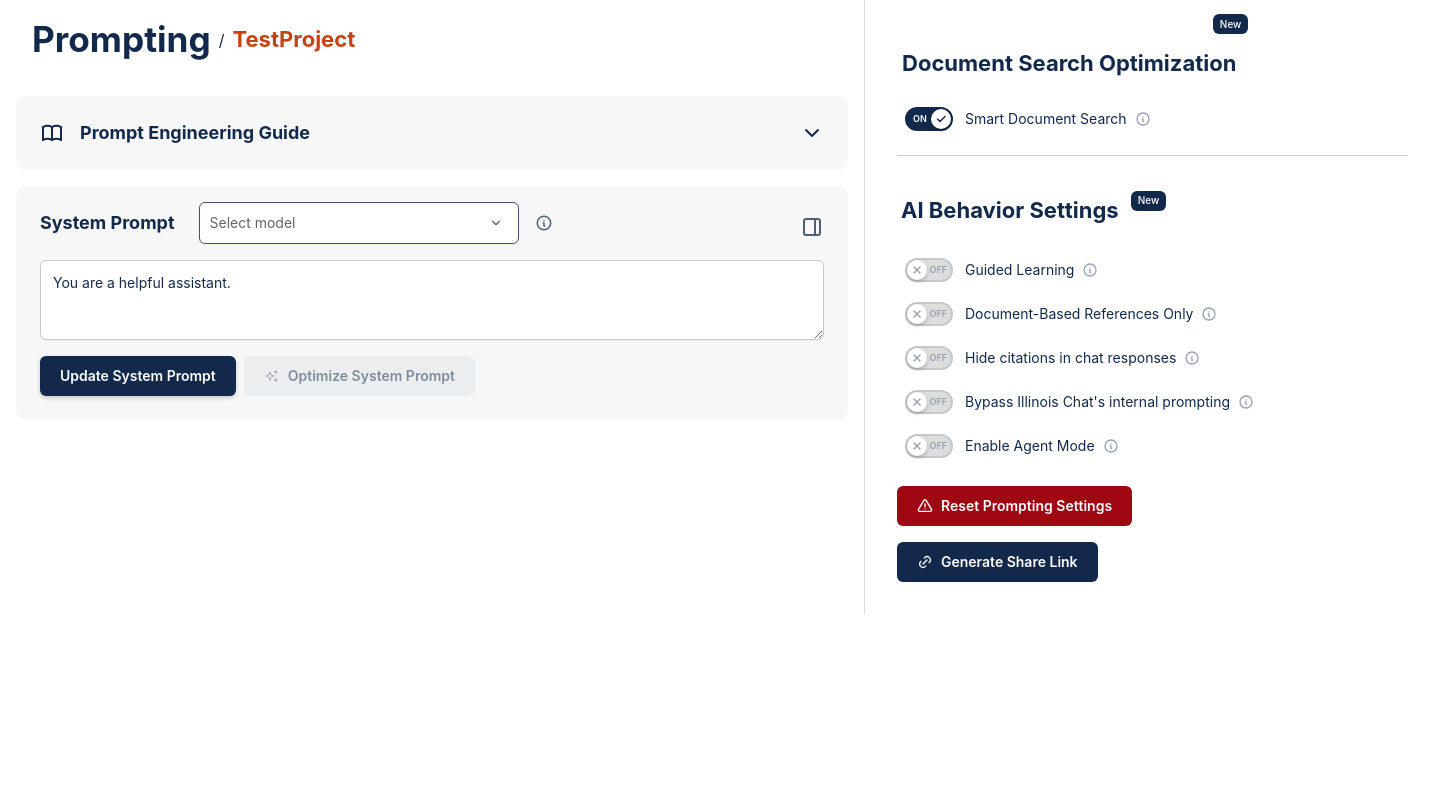
PromptEditor › Sidebar toggle (non-embedded mode) › re-opens sidebar when Open Prompt Builder is clicked
Click the button named "Close Prompt Builder".
click(808, 227)  # box [792,215,824,239]
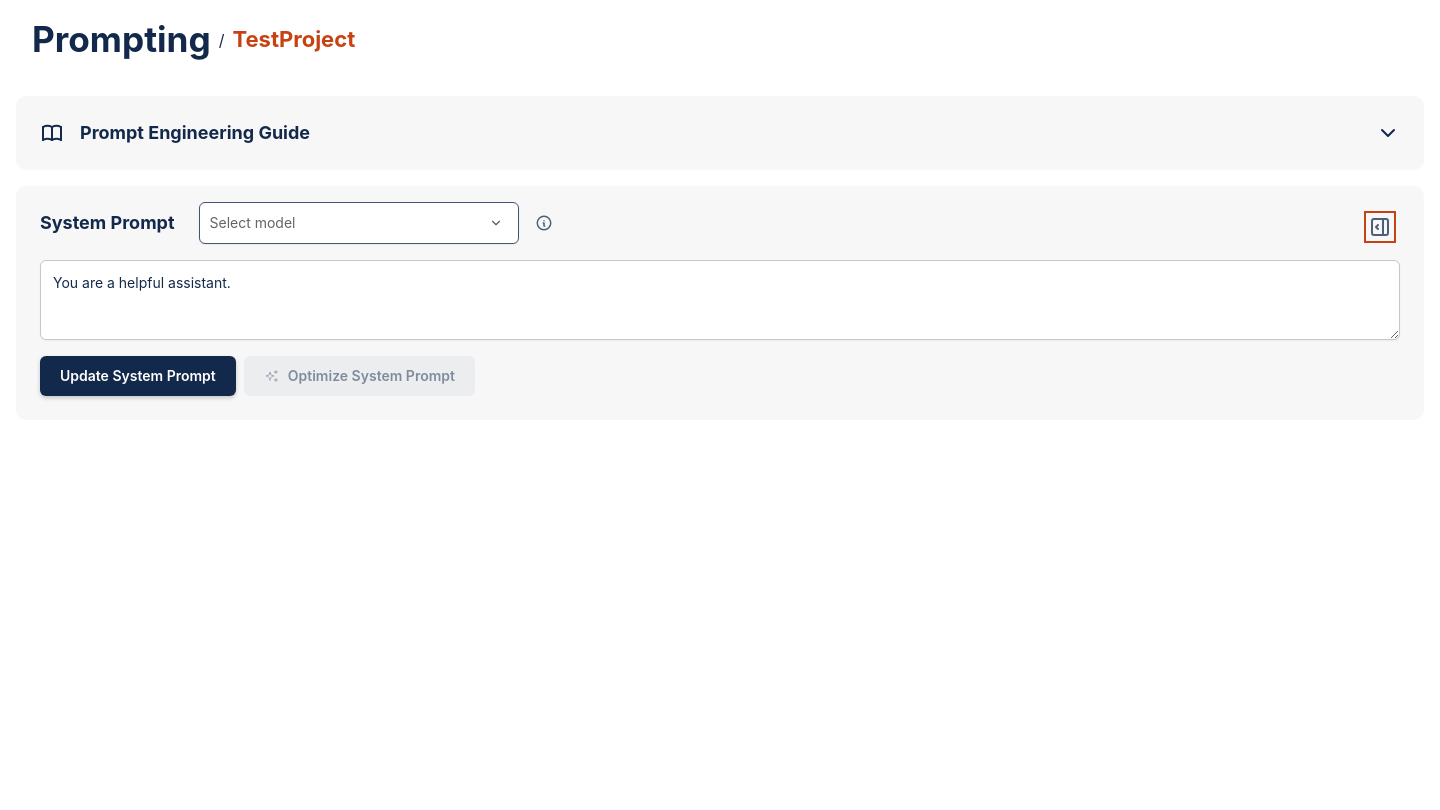
expect the button named "Open Prompt Builder" is shown: met
Click the button named "Open Prompt Builder".
click(1380, 227)  # box [1368,215,1392,239]
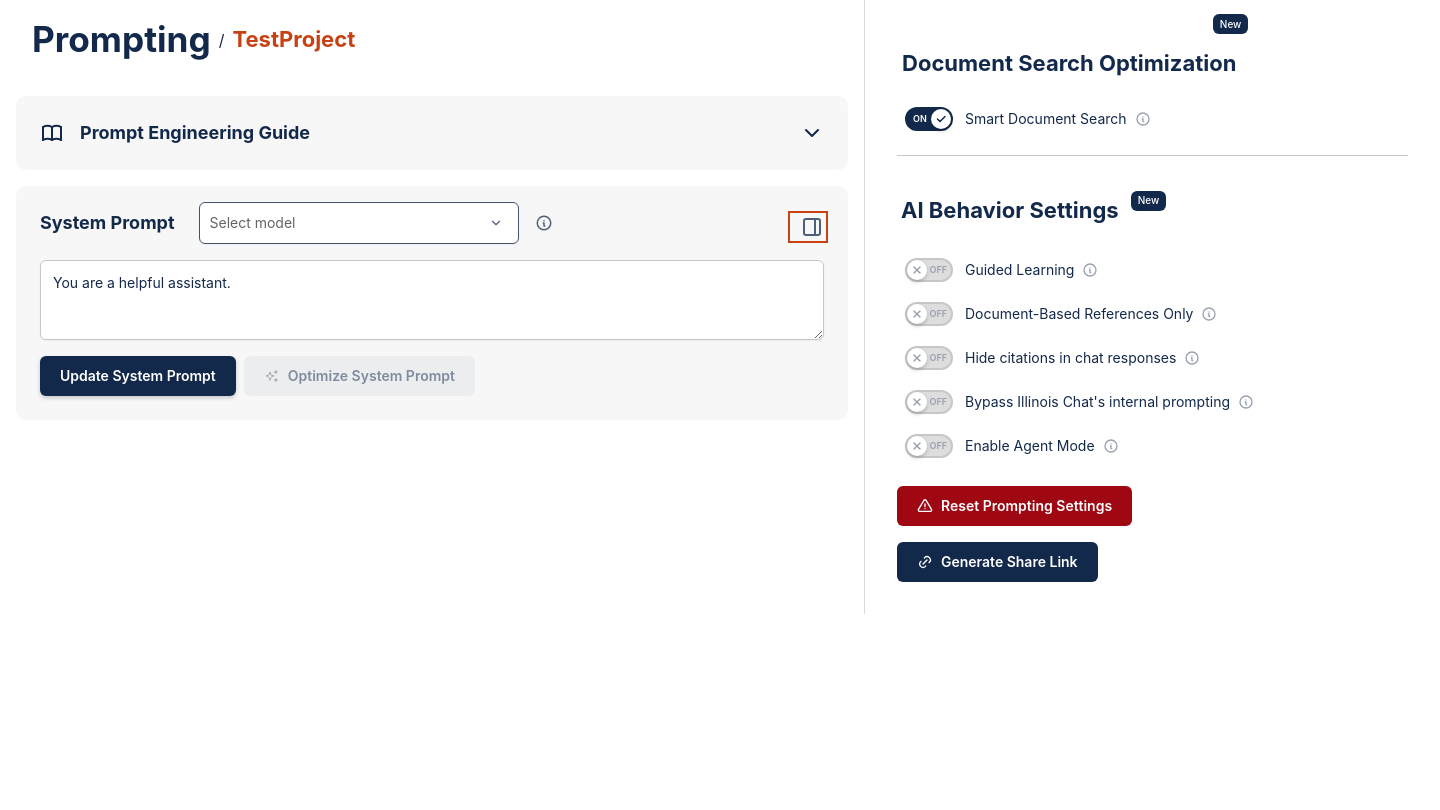
expect the heading "Document Search Optimization" is shown: met, box [902,50,1236,76]
